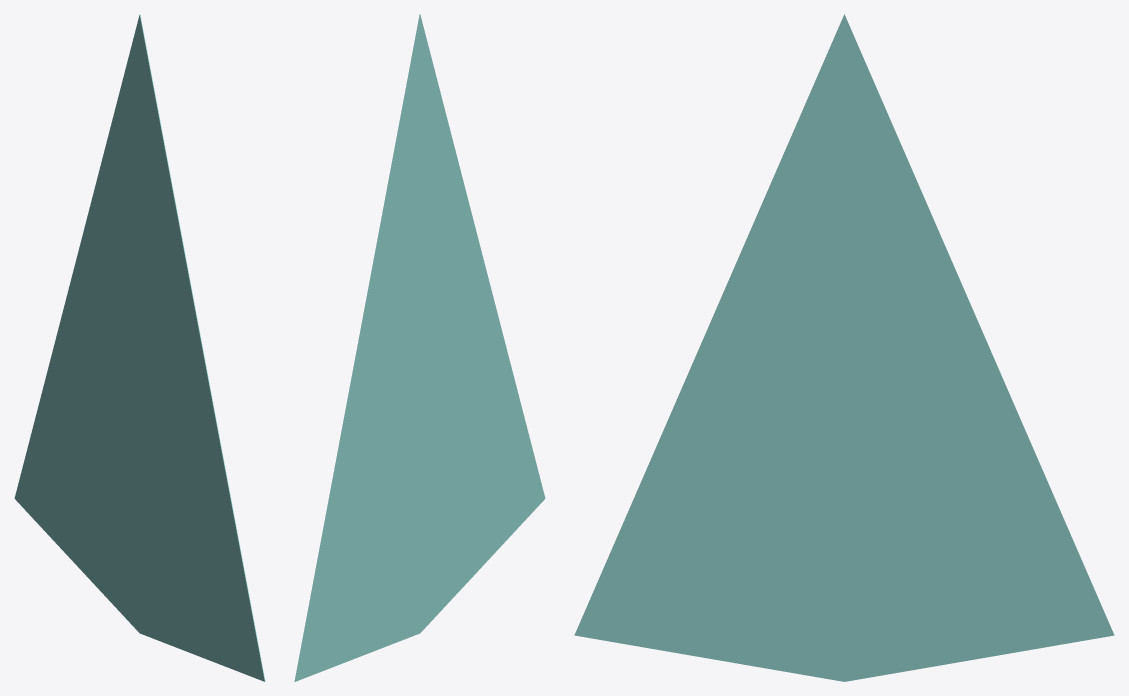
The model's file is Kinect beam.gltf.
The picture shows the model from 3 angles, left to right: view 1: azimuth 30°, elevation 25°; view 2: azimuth 150°, elevation 25°; view 3: azimuth 270°, elevation 25°; orthographic projection. The views are drawn at different scales.
Visible parts, largest first — view 1: mesh76, mesh74; view 2: mesh76, mesh73; view 3: mesh72.
Part boxes in pixels (left/top/right/bottom): mesh76: left=14, top=15, right=264, bottom=681; mesh74: left=139, top=14, right=265, bottom=681; mesh76: left=295, top=15, right=545, bottom=681; mesh73: left=294, top=14, right=420, bottom=681; mesh72: left=574, top=14, right=1114, bottom=681.
Size of the model in its own units: 0.001 by 1 by 0.733.
